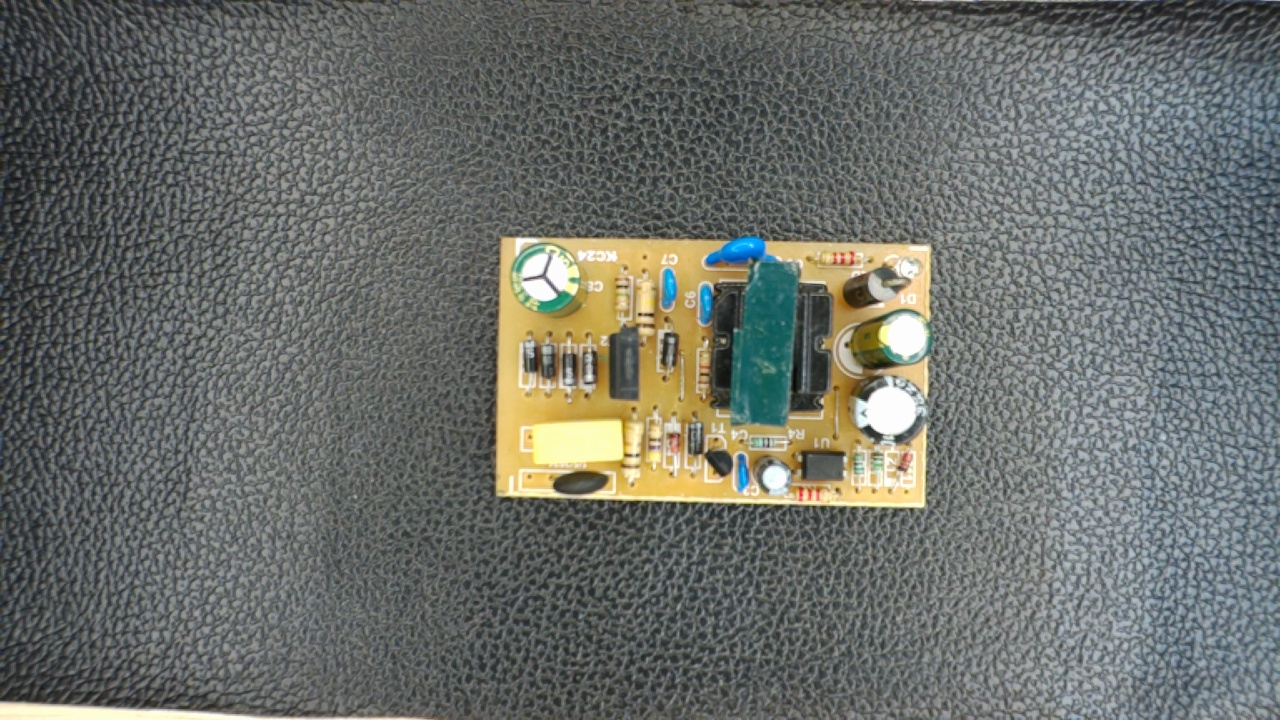fuse: (539, 462, 614, 498)
hv_capacitor: (506, 237, 590, 317)
mov: (699, 237, 785, 270)
optocoupler: (789, 449, 852, 488)
